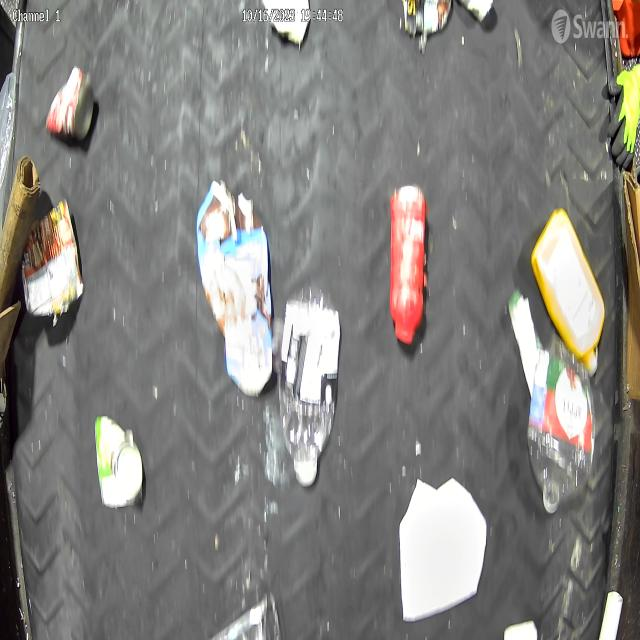can: (20, 197, 84, 318), (94, 414, 145, 509), (44, 63, 95, 141)
non_white_jug: (529, 207, 606, 376)
plastic_bottle: (278, 284, 342, 488), (528, 334, 598, 516)
